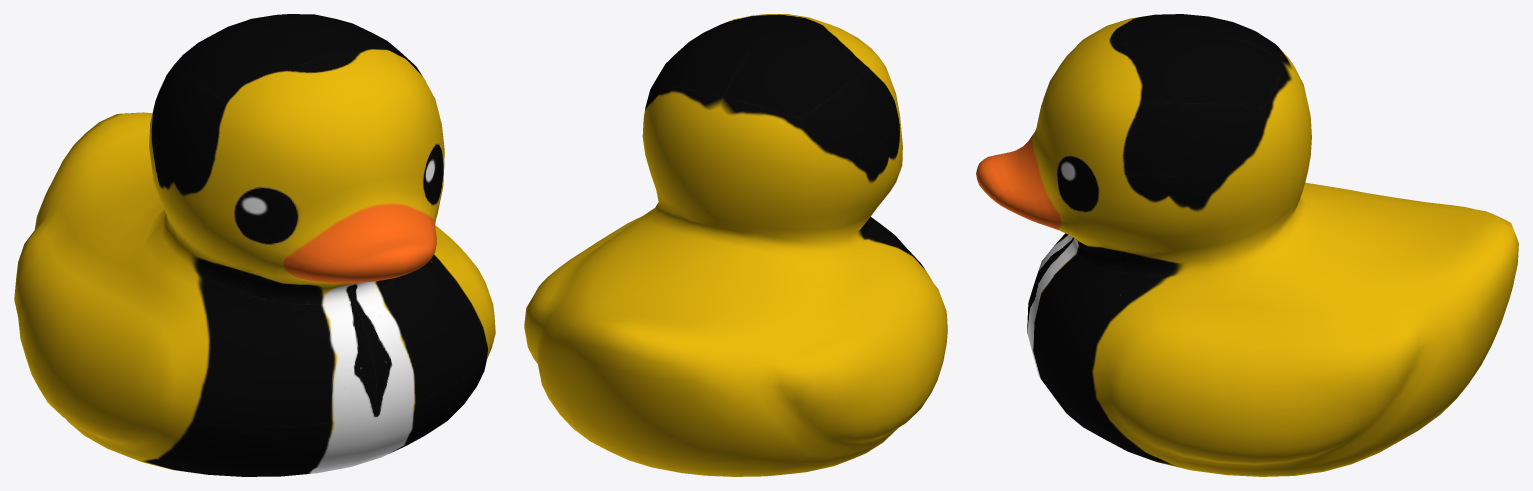
File: sisi2.obj
The picture shows the model from 3 angles, left to right: view 1: azimuth 30°, elevation 25°; view 2: azimuth 150°, elevation 25°; view 3: azimuth 270°, elevation 25°; orthographic projection. The views are drawn at different scales.
Visible parts, largest first — view 1: duck; view 2: duck; view 3: duck.
Boxes of the visible parts, x1,y1,x2,y2 form: duck: [14, 14, 495, 476]; duck: [524, 14, 947, 476]; duck: [976, 14, 1518, 476].
Size of the model in its own units: 0.7289 by 0.706 by 0.9053.
2 materials, 1 textured.
